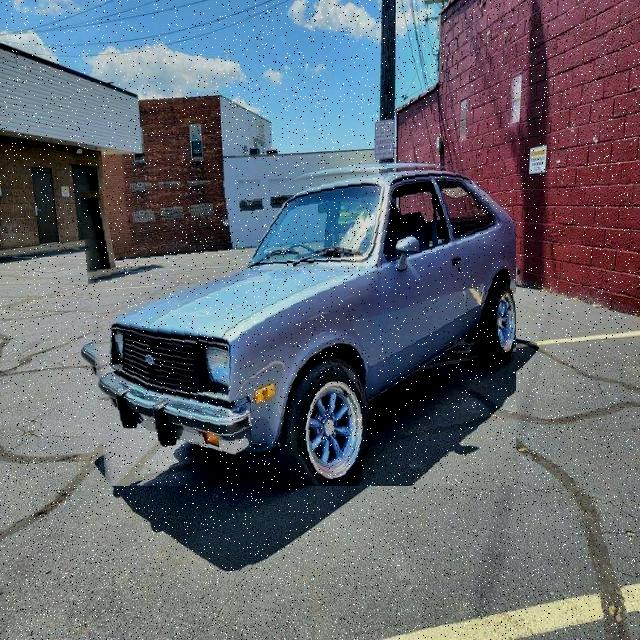car: (81, 160, 517, 487)
